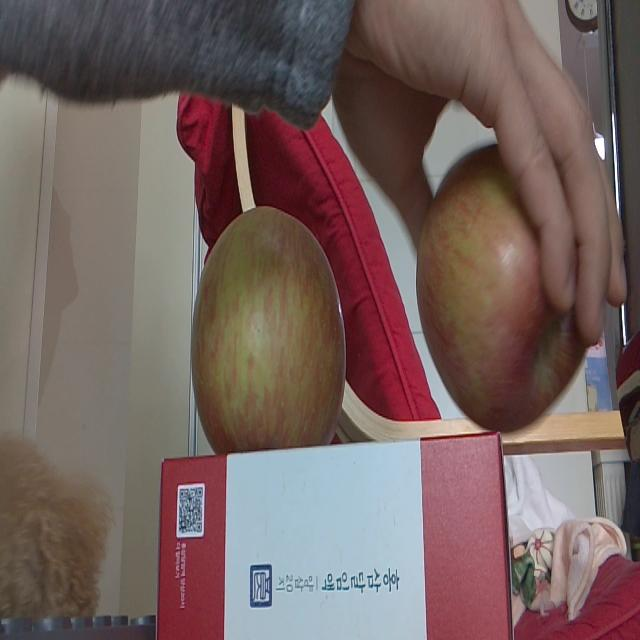apple: (414, 142, 602, 438), (192, 205, 352, 460)
